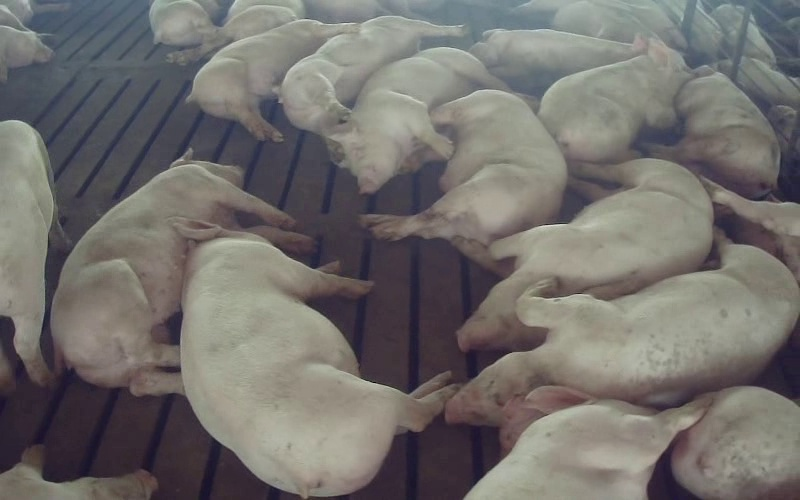pig: (174, 220, 454, 496), (446, 243, 799, 425), (362, 90, 566, 244), (465, 386, 710, 499), (326, 48, 507, 193), (279, 16, 463, 136), (187, 19, 358, 141), (538, 39, 691, 162), (650, 66, 779, 197), (671, 386, 799, 499), (469, 29, 645, 94)
